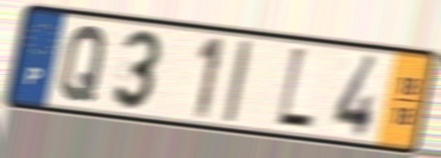1: (194, 35, 228, 122)
3: (111, 26, 165, 113)
4: (329, 51, 377, 140)
I: (221, 38, 255, 125)
L: (273, 43, 317, 135)
Q: (56, 23, 111, 105)
